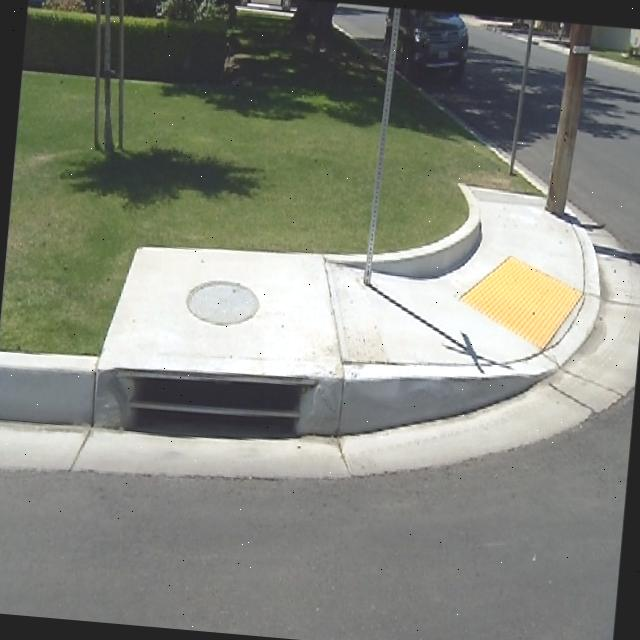curb: (346, 228, 598, 383), (337, 364, 546, 433), (372, 185, 481, 277), (0, 351, 95, 424), (590, 52, 640, 74), (539, 40, 570, 55), (327, 254, 364, 264)
